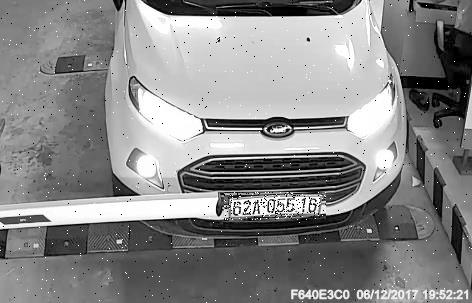License-plate: (225, 194, 327, 222)
